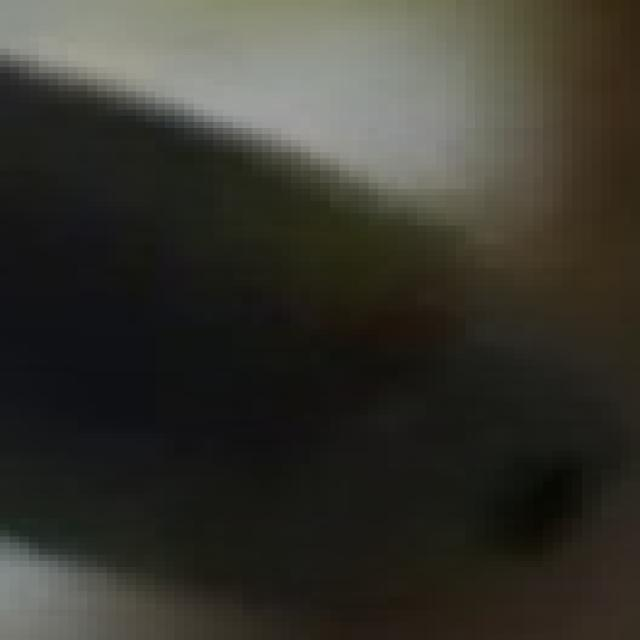fish: (9, 0, 640, 634)
